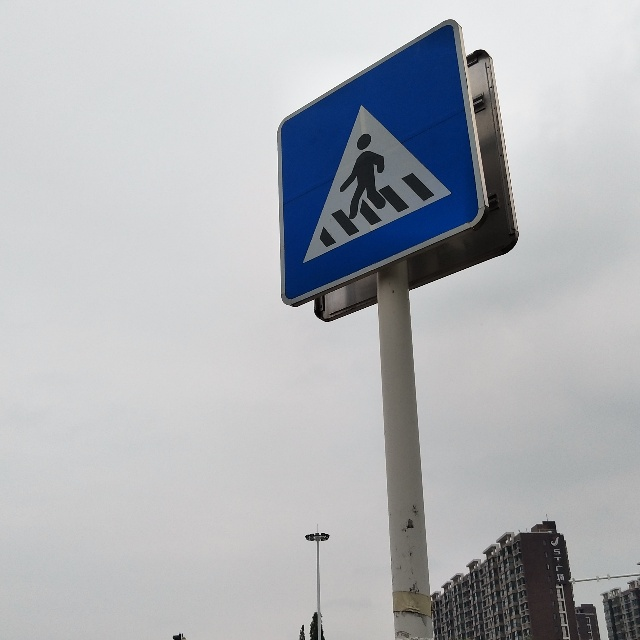crosswalk: (286, 111, 462, 258)
